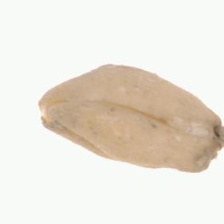L1: (199, 111, 224, 176), (36, 89, 62, 129)
L2: (36, 63, 224, 174)
